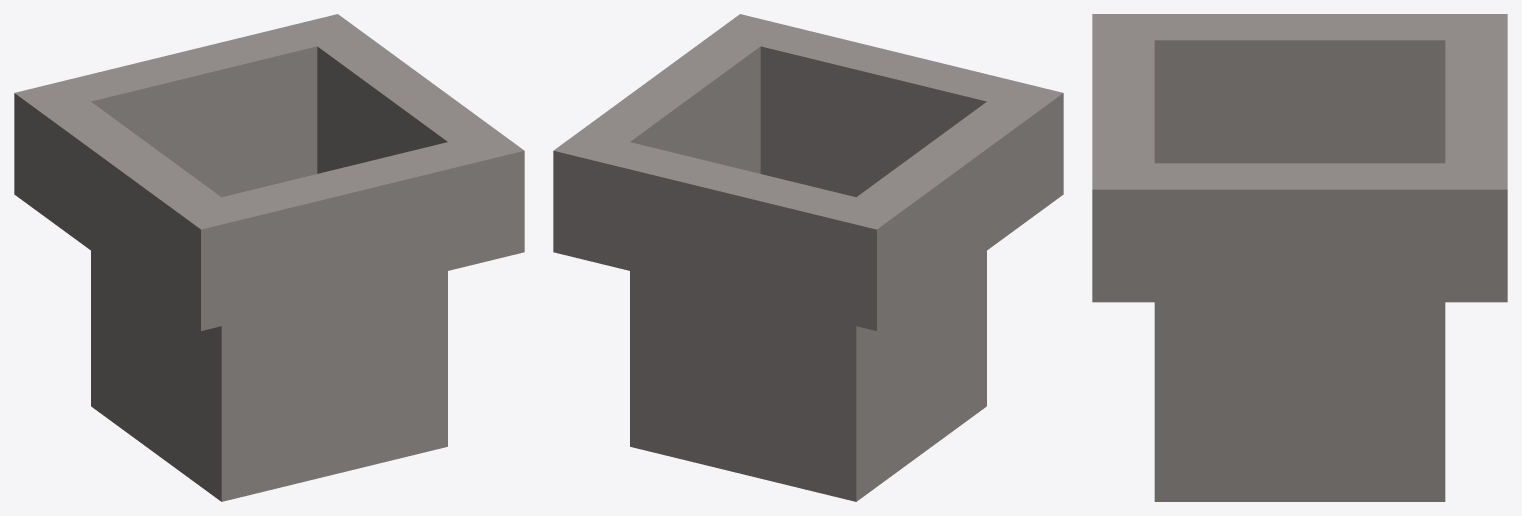
File: Chimney_Top.fbx
The picture shows the model from 3 angles, left to right: view 1: azimuth 30°, elevation 25°; view 2: azimuth 150°, elevation 25°; view 3: azimuth 270°, elevation 25°; orthographic projection. The views are drawn at different scales.
Parts seen in each view (by area): view 1: Chimney_Top; view 2: Chimney_Top; view 3: Chimney_Top.
Boxes of the visible parts, x1,y1,x2,y2 form: Chimney_Top: (14, 14, 524, 501); Chimney_Top: (553, 14, 1063, 501); Chimney_Top: (1092, 14, 1507, 501).
Bounding box in the file's own units: 1 × 1 × 0.9.
